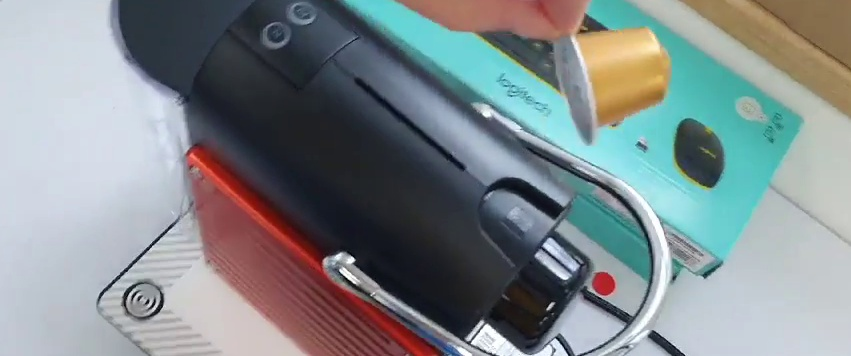capsule_8: (550, 22, 674, 143)
